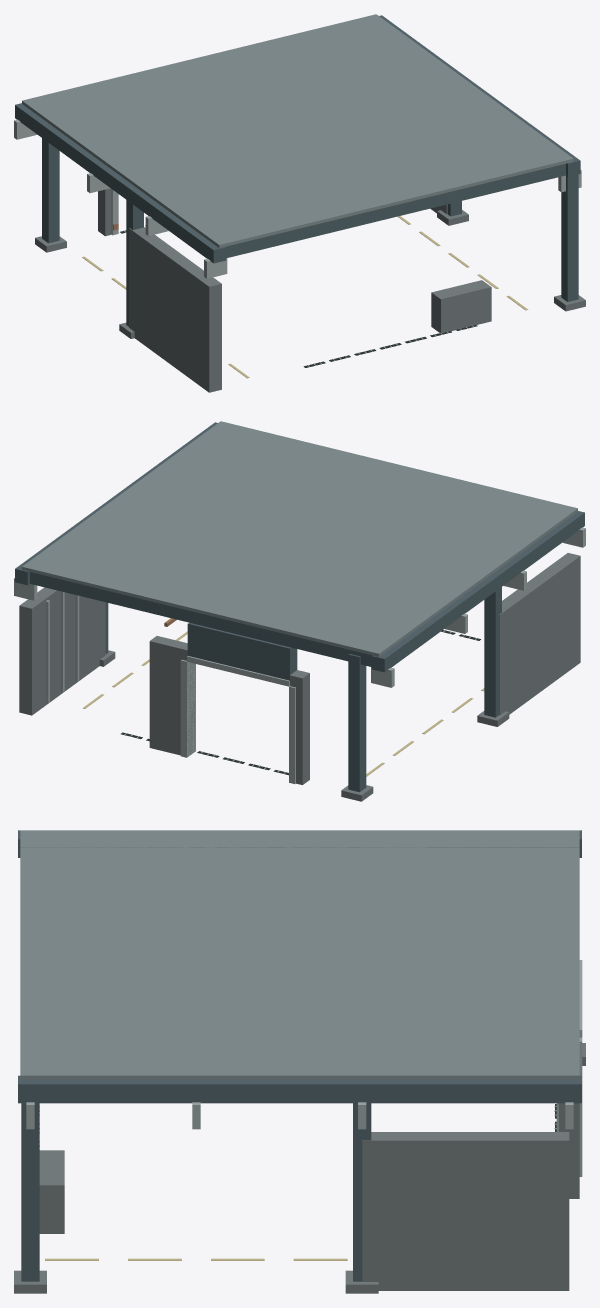
File: induction-hall-build68.glb
3 views of the same model, one above another, from view 1: azimuth 30°, elevation 25°; view 2: azimuth 150°, elevation 25°; view 3: azimuth 270°, elevation 25° (orthographic). The views are drawn at different scales.
Visible parts, largest first — view 1: induction-hall-build68; view 2: induction-hall-build68; view 3: induction-hall-build68.
Part boxes in pixels (x1,y1,x2,y2): induction-hall-build68: (14,14,585,392); induction-hall-build68: (14,421,585,801); induction-hall-build68: (14,830,585,1293).
Size of the model in its own units: 14.8 by 5.62 by 13.8.
